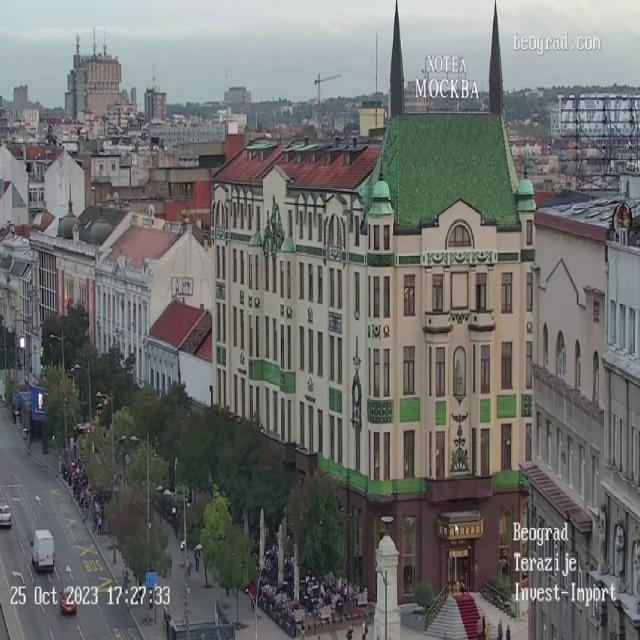car: (31, 529, 55, 572), (60, 586, 77, 615), (0, 504, 12, 528)
